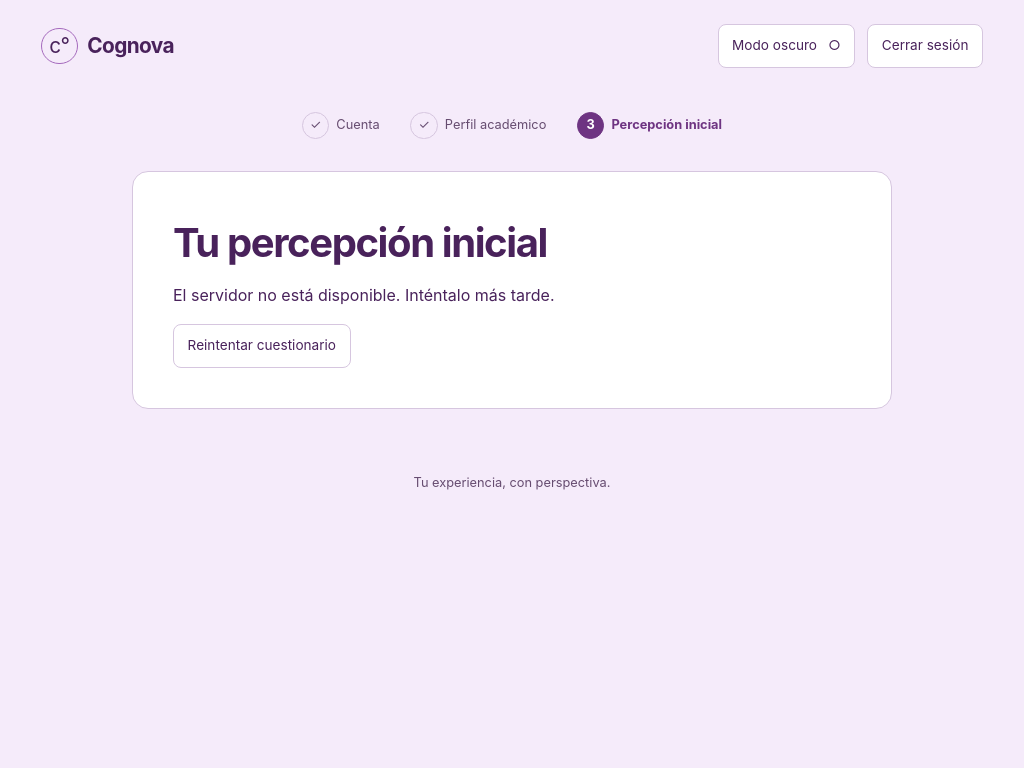
Test: questionnaire UI with real auth state and intercepted API › offers a safe load retry after catalog failure
The width and height of the screenshot is (1024, 768).
Check: the message shows "El servidor no está disponible", box top-left (173, 285), bottom-right (554, 305)
Click the button "Reintentar cuestionario" at (262, 346), box top-left (173, 324), bottom-right (350, 368)
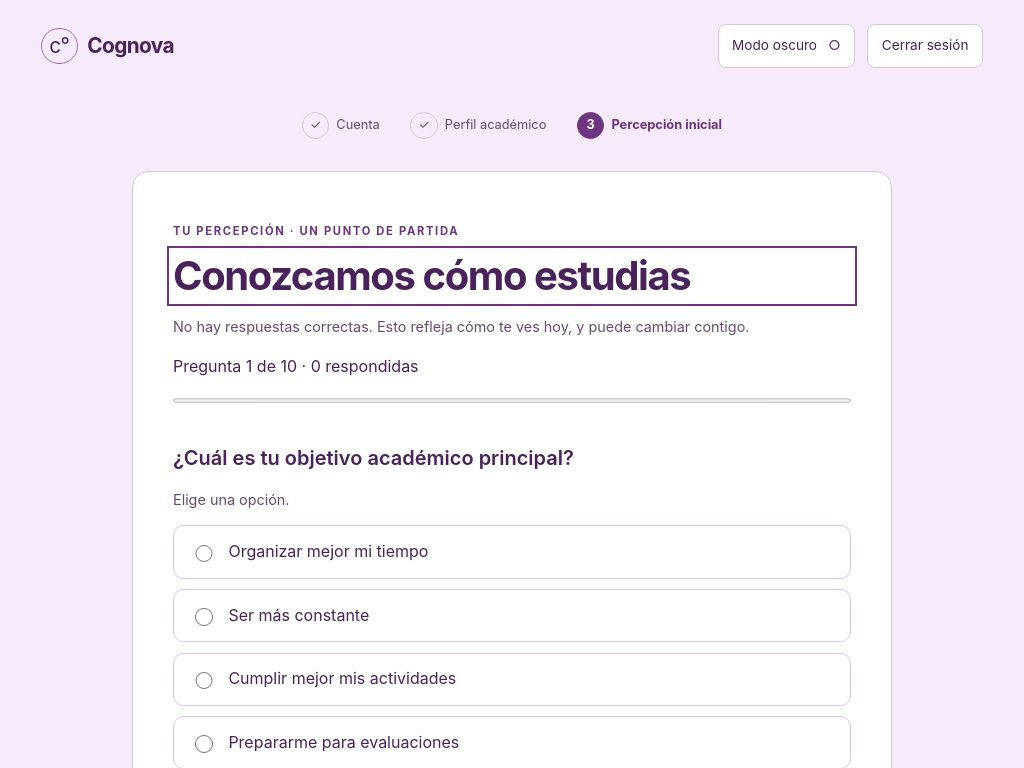
Check: the text "¿Cuál es tu objetivo académico principal?" is shown, box top-left (173, 442), bottom-right (574, 474)
